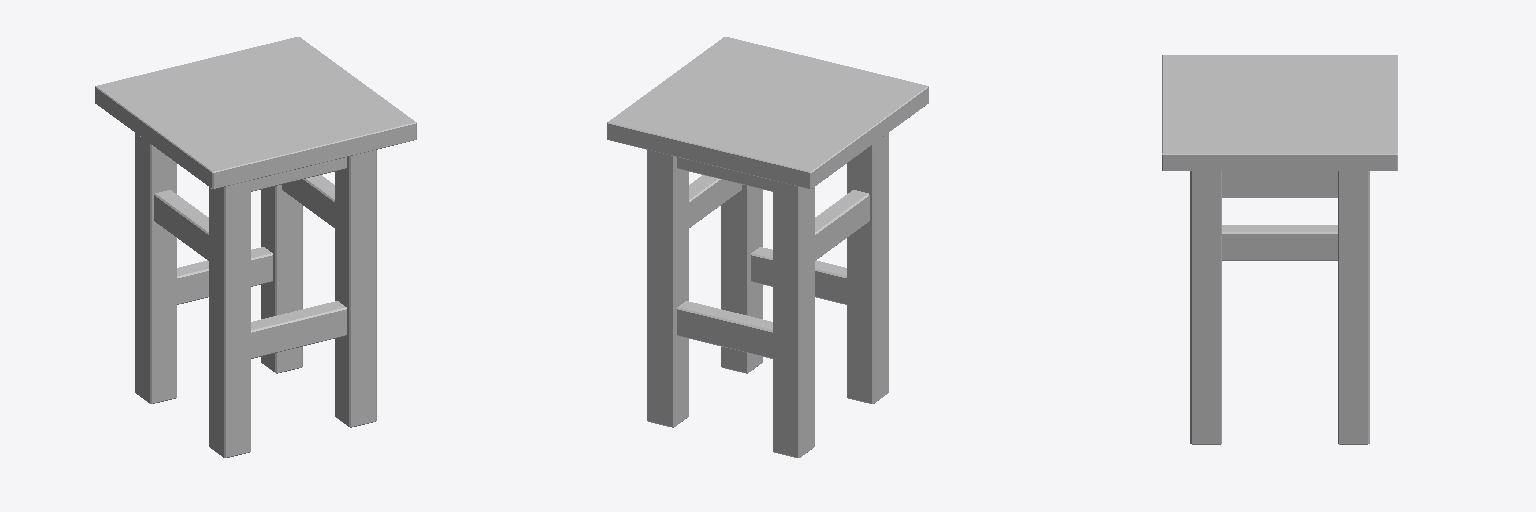
File: chair 01.obj
3 views of the same model, side by side, from view 1: azimuth 30°, elevation 25°; view 2: azimuth 150°, elevation 25°; view 3: azimuth 270°, elevation 25° (orthographic).
Parts seen in each view (by area): view 1: chair_01; view 2: chair_01; view 3: chair_01.
Boxes of the visible parts, box(x1,y1,x2,y2) form: chair_01: box(95, 37, 416, 457); chair_01: box(607, 37, 928, 457); chair_01: box(1162, 55, 1397, 444).
Bounding box in the file's own units: 0.865 × 1.23 × 0.865.